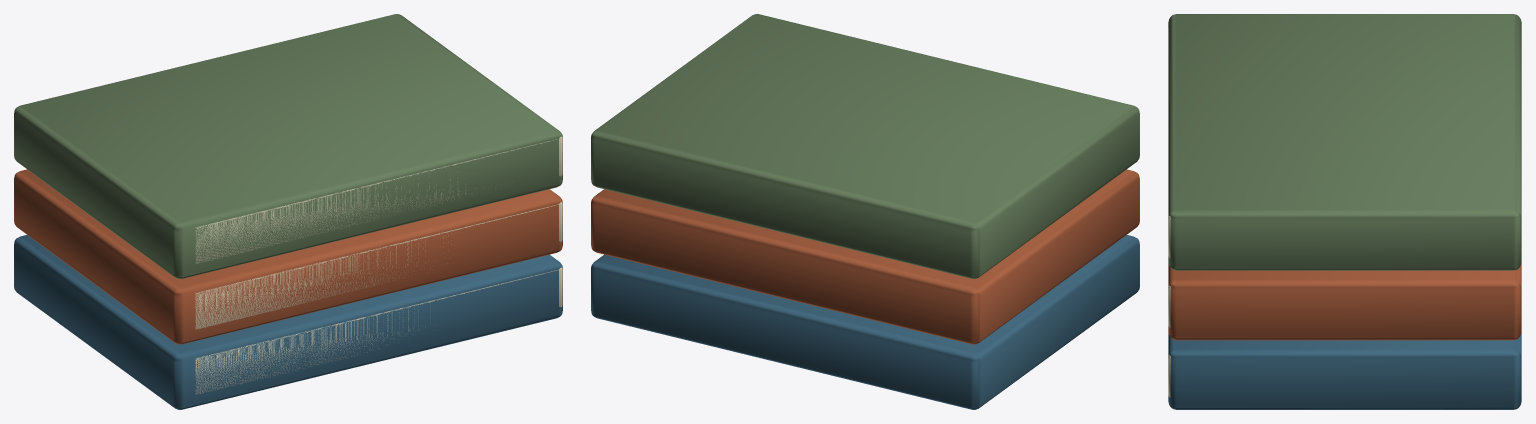
The model's file is urban-books-v1.glb.
3 views of the same model, side by side, from view 1: azimuth 30°, elevation 25°; view 2: azimuth 150°, elevation 25°; view 3: azimuth 270°, elevation 25° (orthographic). The views are drawn at different scales.
Visible parts, largest first — view 1: Book back.002, Book back, Book back.001, Exposed pages.001, Exposed pages.002, Exposed pages; view 2: Book back.002, Book back.001, Book back; view 3: Book back.002, Book back.001, Book back.
Boxes of the visible parts, x1=… form: Book back.002: x1=14, y1=14, x2=562, y2=278; Book back: x1=14, y1=235, x2=562, y2=409; Book back.001: x1=14, y1=169, x2=562, y2=344; Exposed pages.001: x1=195, y1=202, x2=562, y2=329; Exposed pages.002: x1=195, y1=136, x2=562, y2=263; Exposed pages: x1=195, y1=267, x2=562, y2=394; Book back.002: x1=591, y1=14, x2=1139, y2=278; Book back.001: x1=591, y1=169, x2=1139, y2=344; Book back: x1=591, y1=235, x2=1139, y2=409; Book back.002: x1=1168, y1=14, x2=1521, y2=270; Book back.001: x1=1168, y1=263, x2=1521, y2=340; Book back: x1=1168, y1=332, x2=1521, y2=409.
Bounding box in the file's own units: 0.23 × 0.106 × 0.17.
Materials: 4 (4 with a texture image).
